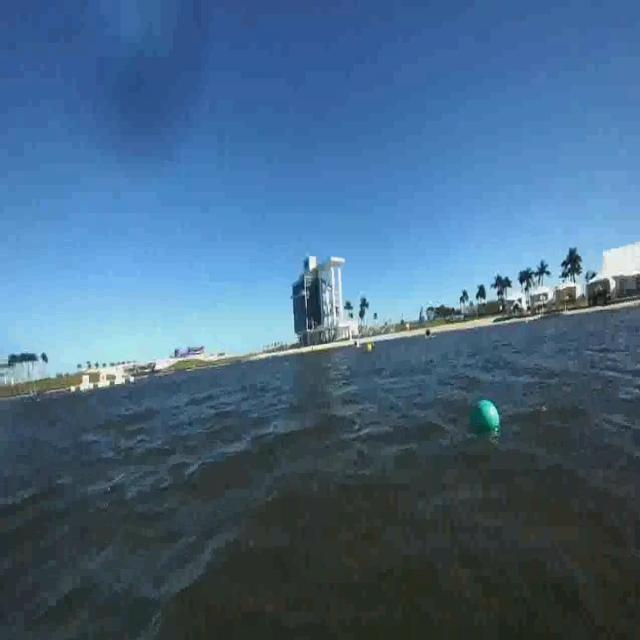green-buoy: (472, 400, 501, 436)
yellow-buoy: (366, 342, 372, 354)
